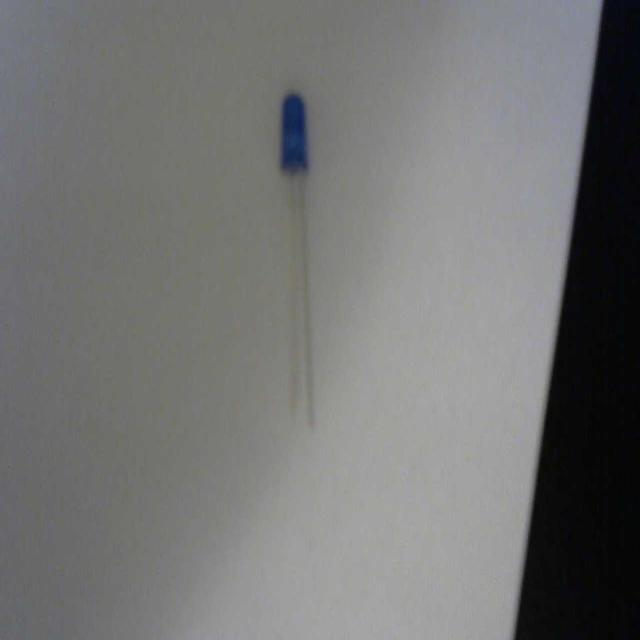blue_led: (280, 92, 308, 174)
